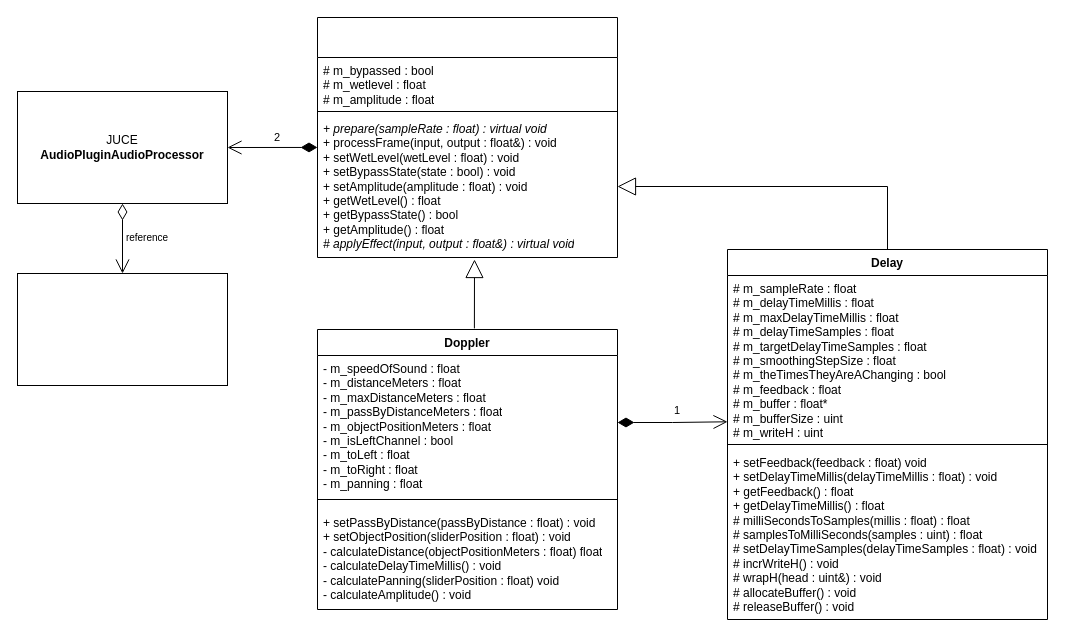
The diagram is 1065 pixels wide and 640 high, and some of its shapes have lost their labels. The box of each missing label's shape, as (x1, y1, x2, y2) in pixels:
<<abstract>> Effect: (316, 16, 618, 258)
JUCE AudioPluginAudioProcessorEditor: (16, 272, 228, 386)
